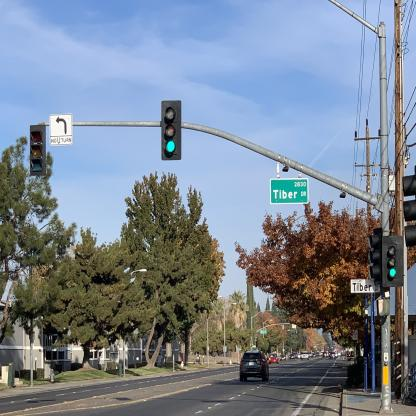green: (162, 100, 182, 161), (382, 236, 404, 287)
